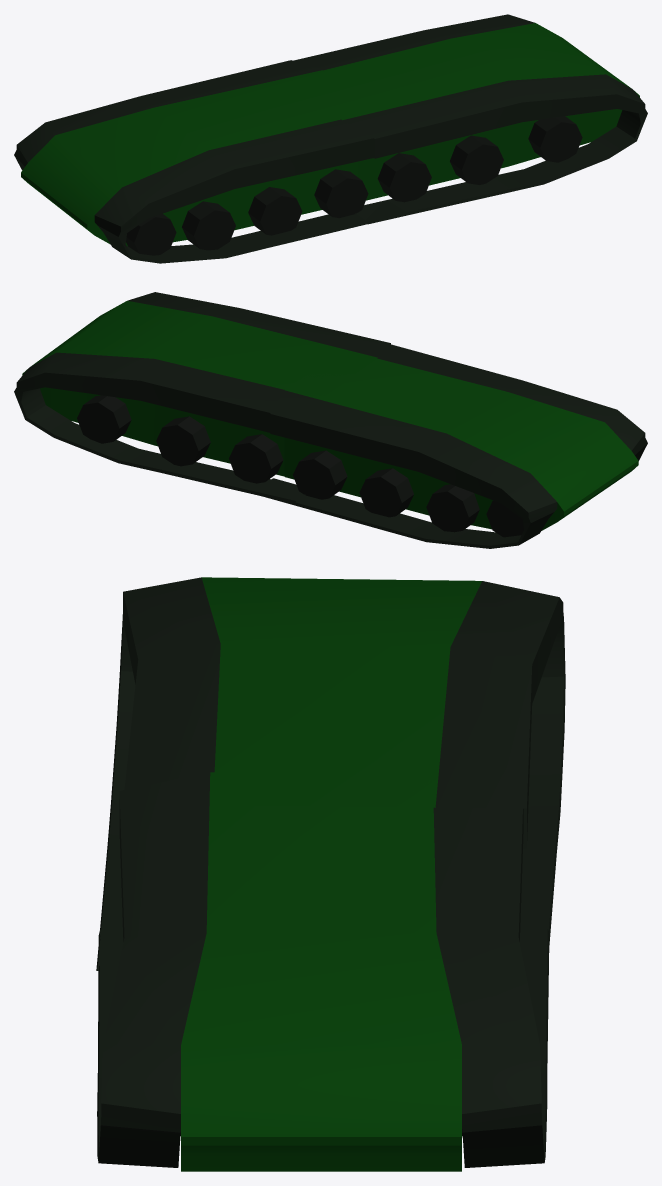
Rendered from TankBase4.obj.
3 renders of one model, top to bottom at view 1: azimuth 30°, elevation 25°; view 2: azimuth 150°, elevation 25°; view 3: azimuth 270°, elevation 25°, orthographic. The views are drawn at different scales.
Parts seen in each view (by area): view 1: pCube2, group1 pCube1, group1 pCylinder19, group1 pCylinder15, group1 pCylinder18, group1 pCylinder17, group1 pCylinder14, group1 pCylinder20, pCylinder16 group1; view 2: pCube2, group1 pCube1, group1 pCylinder22, group1 pCylinder23, group1 pCylinder24, group1 pCylinder25, group1 pCylinder21, group1 pCylinder26, group1 pCylinder27; view 3: group1 pCube1, pCube2.
Boxes of the visible parts, x1,y1,x2,y2 form: pCube2: [14, 60, 405, 263]; group1 pCube1: [293, 14, 647, 224]; group1 pCylinder19: [450, 135, 503, 184]; group1 pCylinder15: [182, 201, 235, 250]; group1 pCylinder18: [377, 153, 431, 202]; group1 pCylinder17: [314, 169, 368, 218]; group1 pCylinder14: [248, 187, 302, 235]; group1 pCylinder20: [528, 116, 582, 162]; pCylinder16 group1: [126, 213, 176, 255]; pCube2: [252, 344, 647, 548]; group1 pCube1: [14, 292, 390, 503]; group1 pCylinder22: [156, 416, 210, 466]; group1 pCylinder23: [229, 434, 283, 483]; group1 pCylinder24: [293, 450, 347, 499]; group1 pCylinder25: [359, 468, 413, 517]; group1 pCylinder21: [77, 395, 131, 443]; group1 pCylinder26: [426, 484, 479, 532]; group1 pCylinder27: [486, 500, 523, 537]; group1 pCube1: [97, 772, 549, 1171]; pCube2: [96, 577, 565, 973].
Size of the model in its own units: 4.96 by 0.7653 by 1.85.
